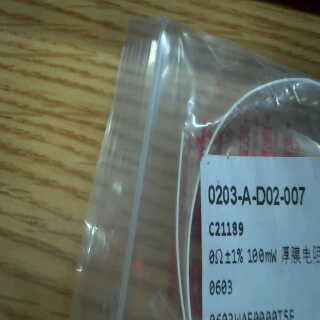0R: (206, 245, 280, 301)
